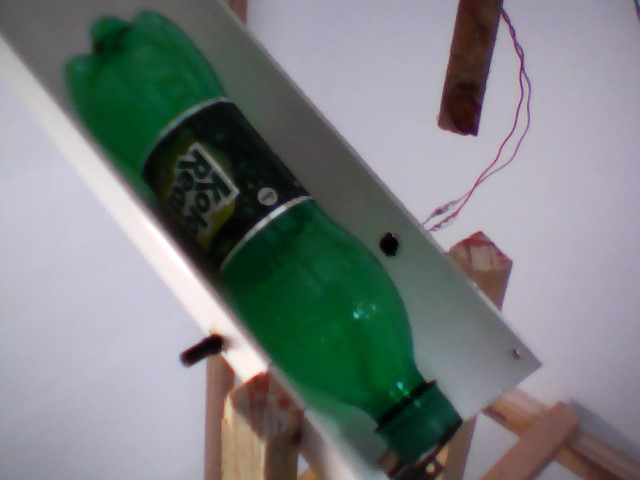plastico: (45, 1, 475, 478)
